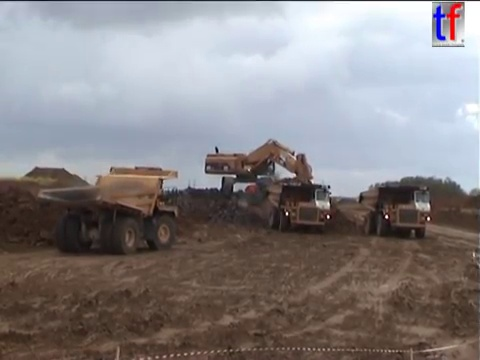excavator: (202, 137, 338, 219), (244, 174, 317, 204)
truck: (35, 167, 179, 256), (356, 185, 432, 238), (264, 181, 332, 233), (104, 164, 165, 198)
